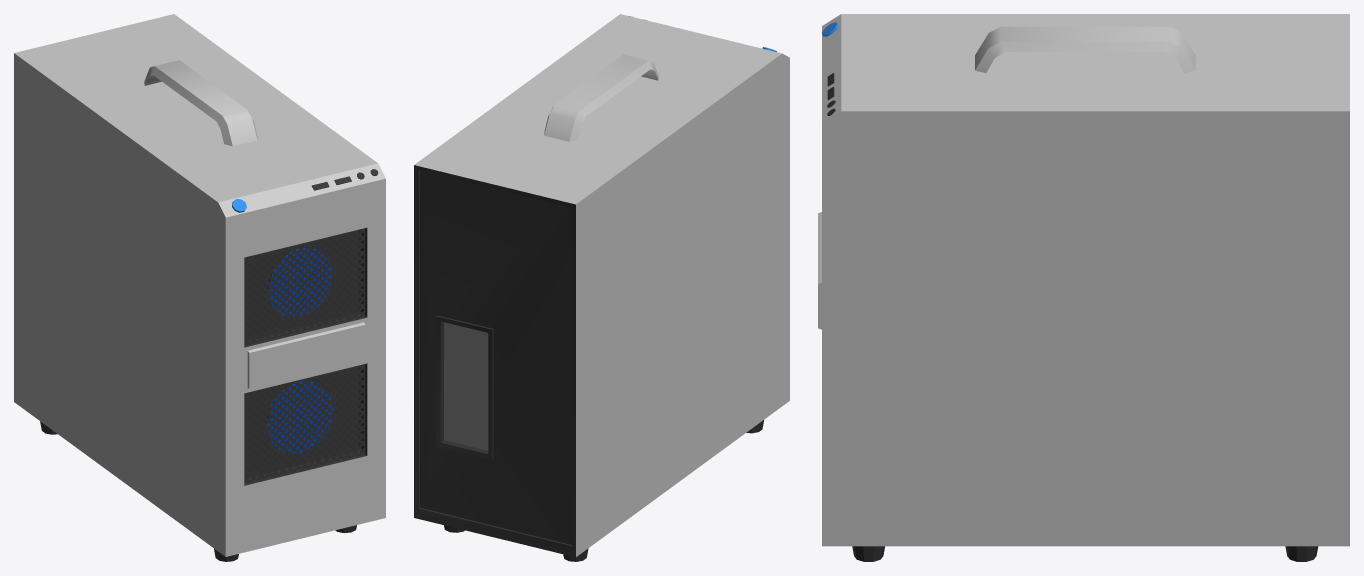
Rendered from PC_Case_7.obj.
3 renders of one model, left to right at view 1: azimuth 30°, elevation 25°; view 2: azimuth 150°, elevation 25°; view 3: azimuth 270°, elevation 25°, orthographic. The views are drawn at different scales.
Visible parts, largest first — view 1: PC_Case_7; view 2: PC_Case_7; view 3: PC_Case_7.
Part boxes in pixels (box(x1,y1,x2,y2)): PC_Case_7: box(14, 14, 385, 561); PC_Case_7: box(414, 14, 789, 561); PC_Case_7: box(818, 14, 1349, 561).
Bounding box in the file's own units: 0.2107 × 0.4912 × 0.4861.
